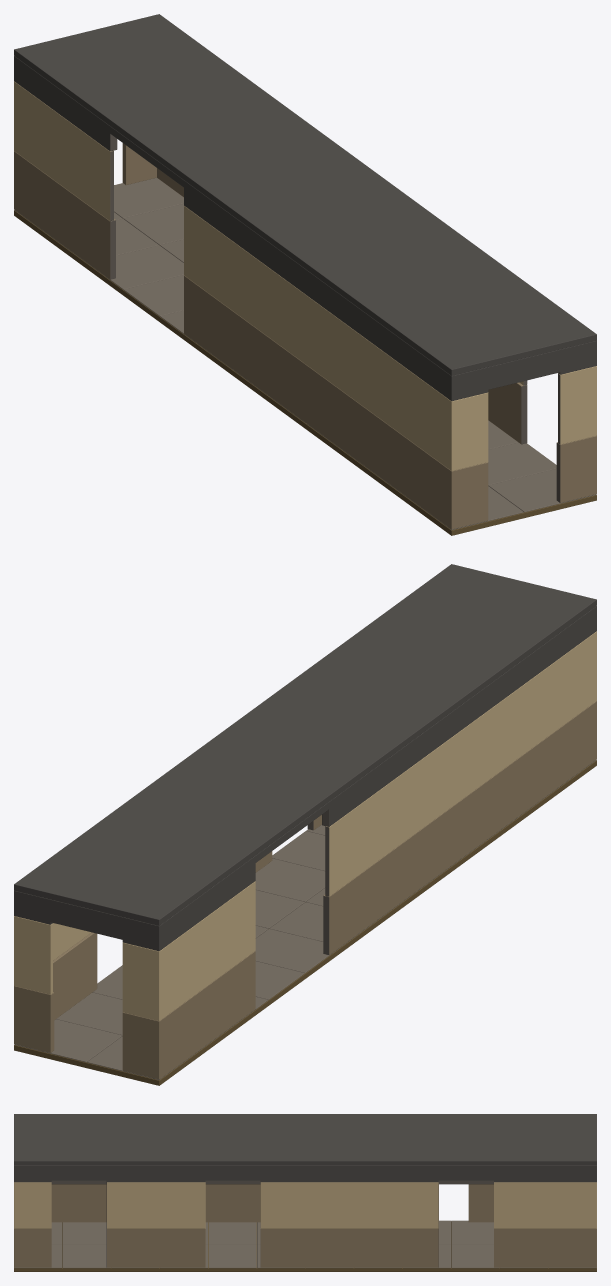
The model's file is gen-belt.glb.
3 renders of one model, top to bottom at view 1: azimuth 30°, elevation 25°; view 2: azimuth 150°, elevation 25°; view 3: azimuth 270°, elevation 25°, orthographic. The views are drawn at different scales.
Parts seen in each view (by area): view 1: THE BELT; view 2: THE BELT; view 3: THE BELT.
Boxes of the visible parts, x1,y1,x2,y2 form: THE BELT: (14, 14, 596, 535); THE BELT: (14, 564, 596, 1085); THE BELT: (14, 1114, 596, 1271).
Bounding box in the file's own units: 2.4 × 2.62 × 12.5.
